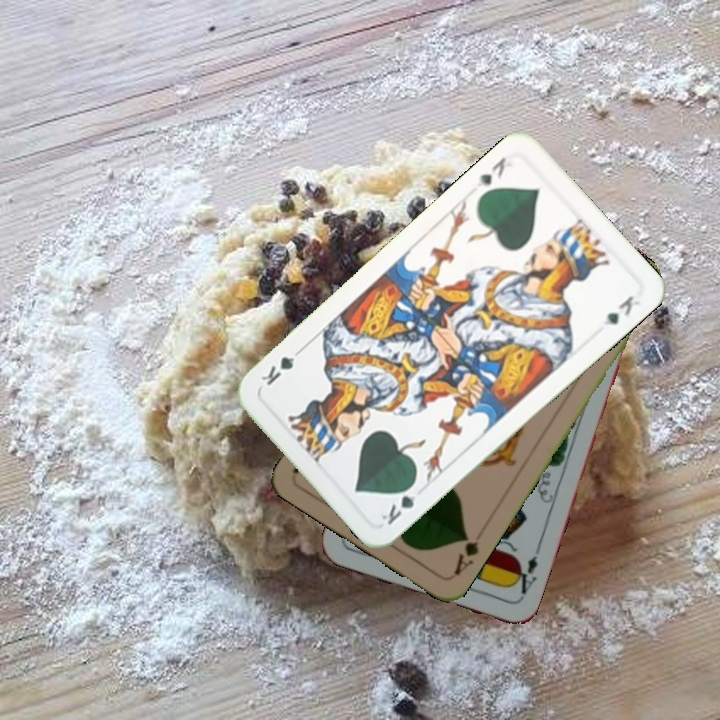EA: (508, 544, 543, 602)
GA: (449, 530, 482, 579)
GK: (377, 478, 421, 528), (472, 153, 515, 192)
